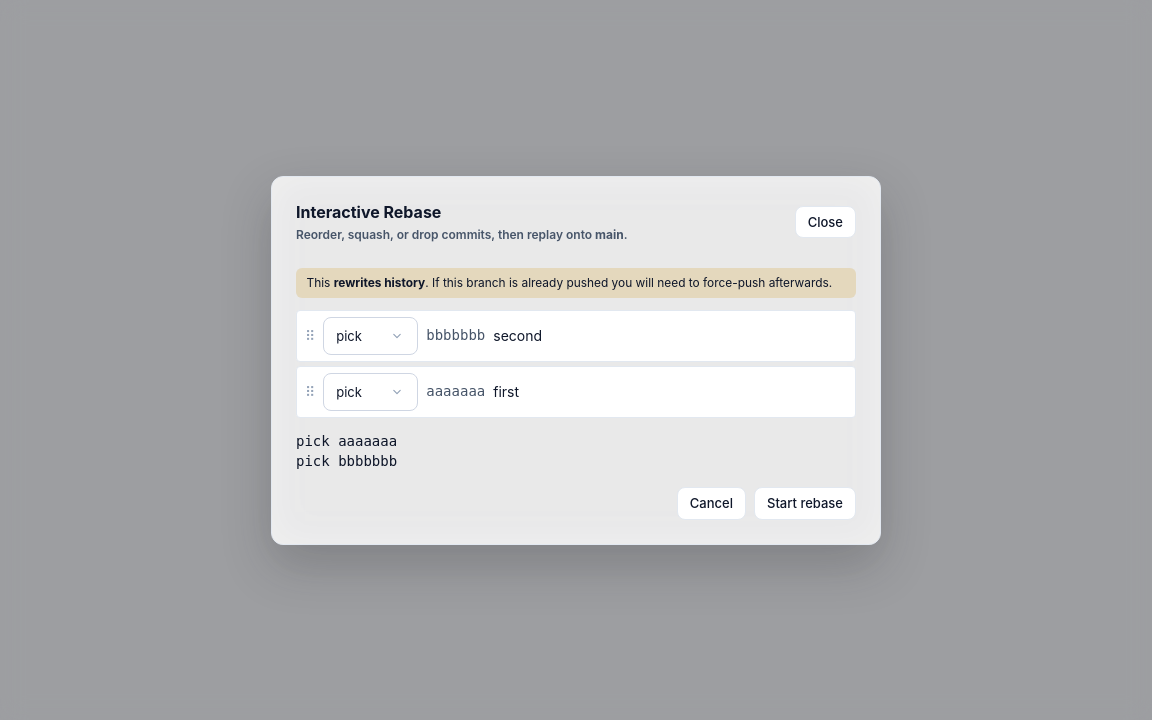
Test: InteractiveRebaseDialog › blocks dropping every commit
This screenshot has width=1152, height=720.
Expected: the text "first" is shown, [493,383,519,400]
Select "drop" in the dropdown named "Action for second". click: (371, 336)
box: [323,317,418,355]
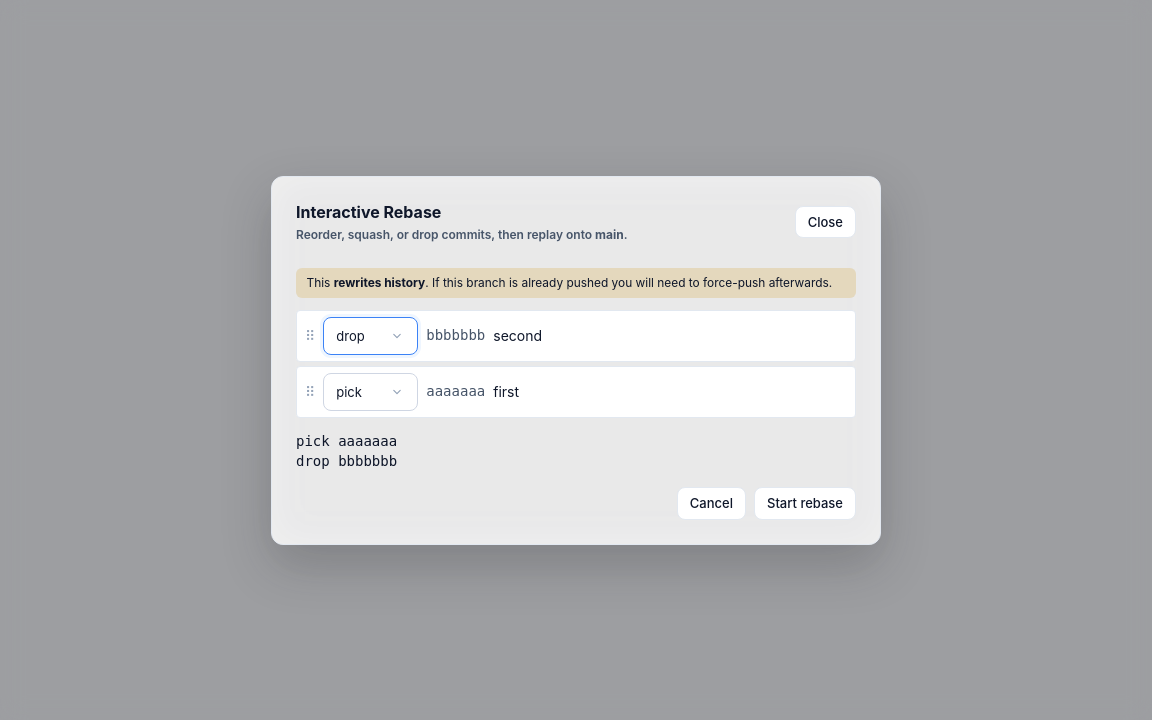
Select "drop" in the dropdown named "Action for first". click: (371, 392)
box: [323,373,418,411]
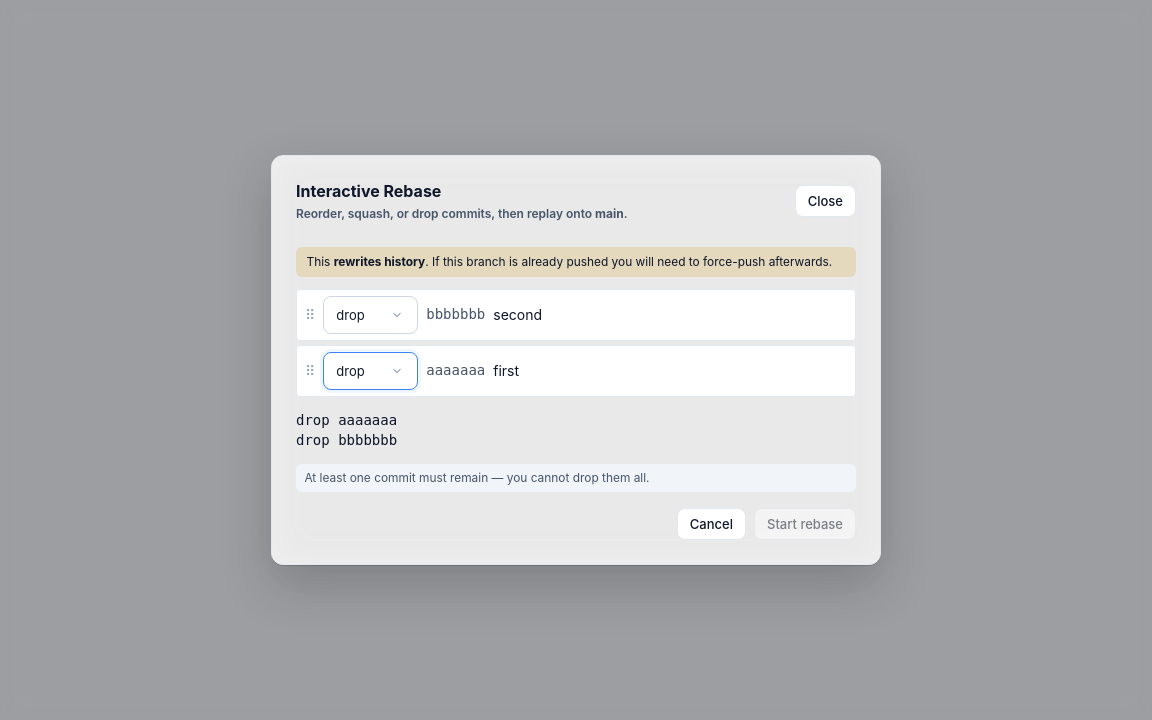
Result: the text "At least one commit must remain — you cannot drop them all." is shown at [296,464,856,492]
Result: the button "Start rebase" is disabled at [754,508,856,540]
